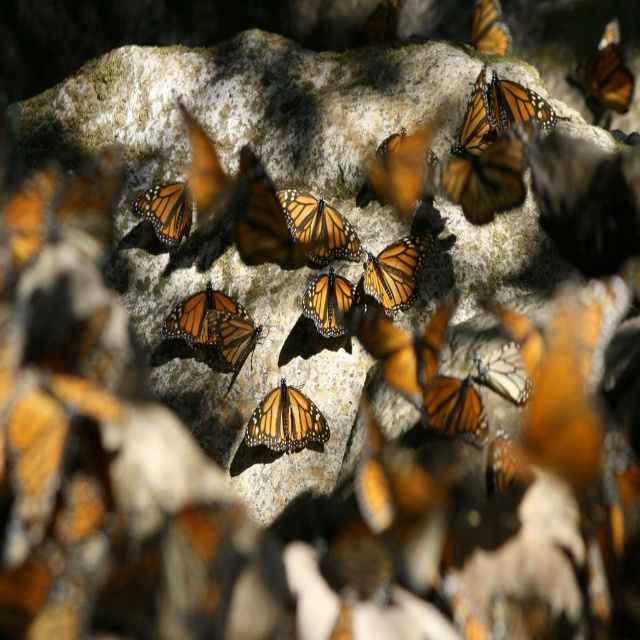Butterfly: (0, 2, 640, 640)
